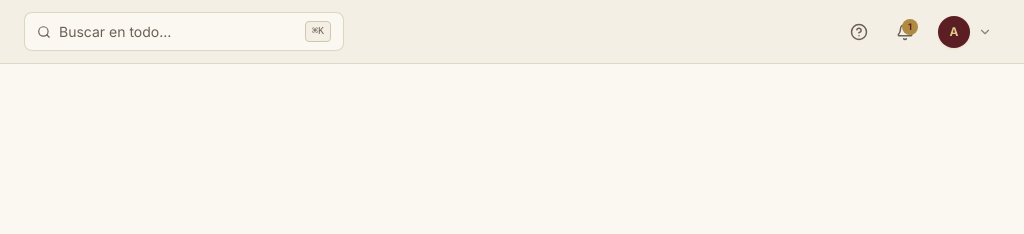
Test case: APPLE-SHELL-L2-02 notification times and stale poll › a later failed poll keeps the list and shows the Spanish stale sentence
Click the button named "Notificaciones, 1 sin leer" at (905, 32), box 888,14 -> 922,48
Wait 30000 ms
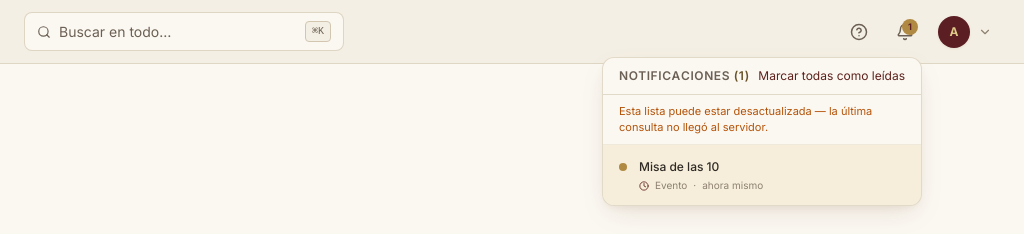
Now the text "Esta lista puede estar desactualizada — la última consulta no llegó al servidor." is shown, box 603,94 -> 921,144
Now the text "Misa de las 10" is shown, box 639,158 -> 719,174
